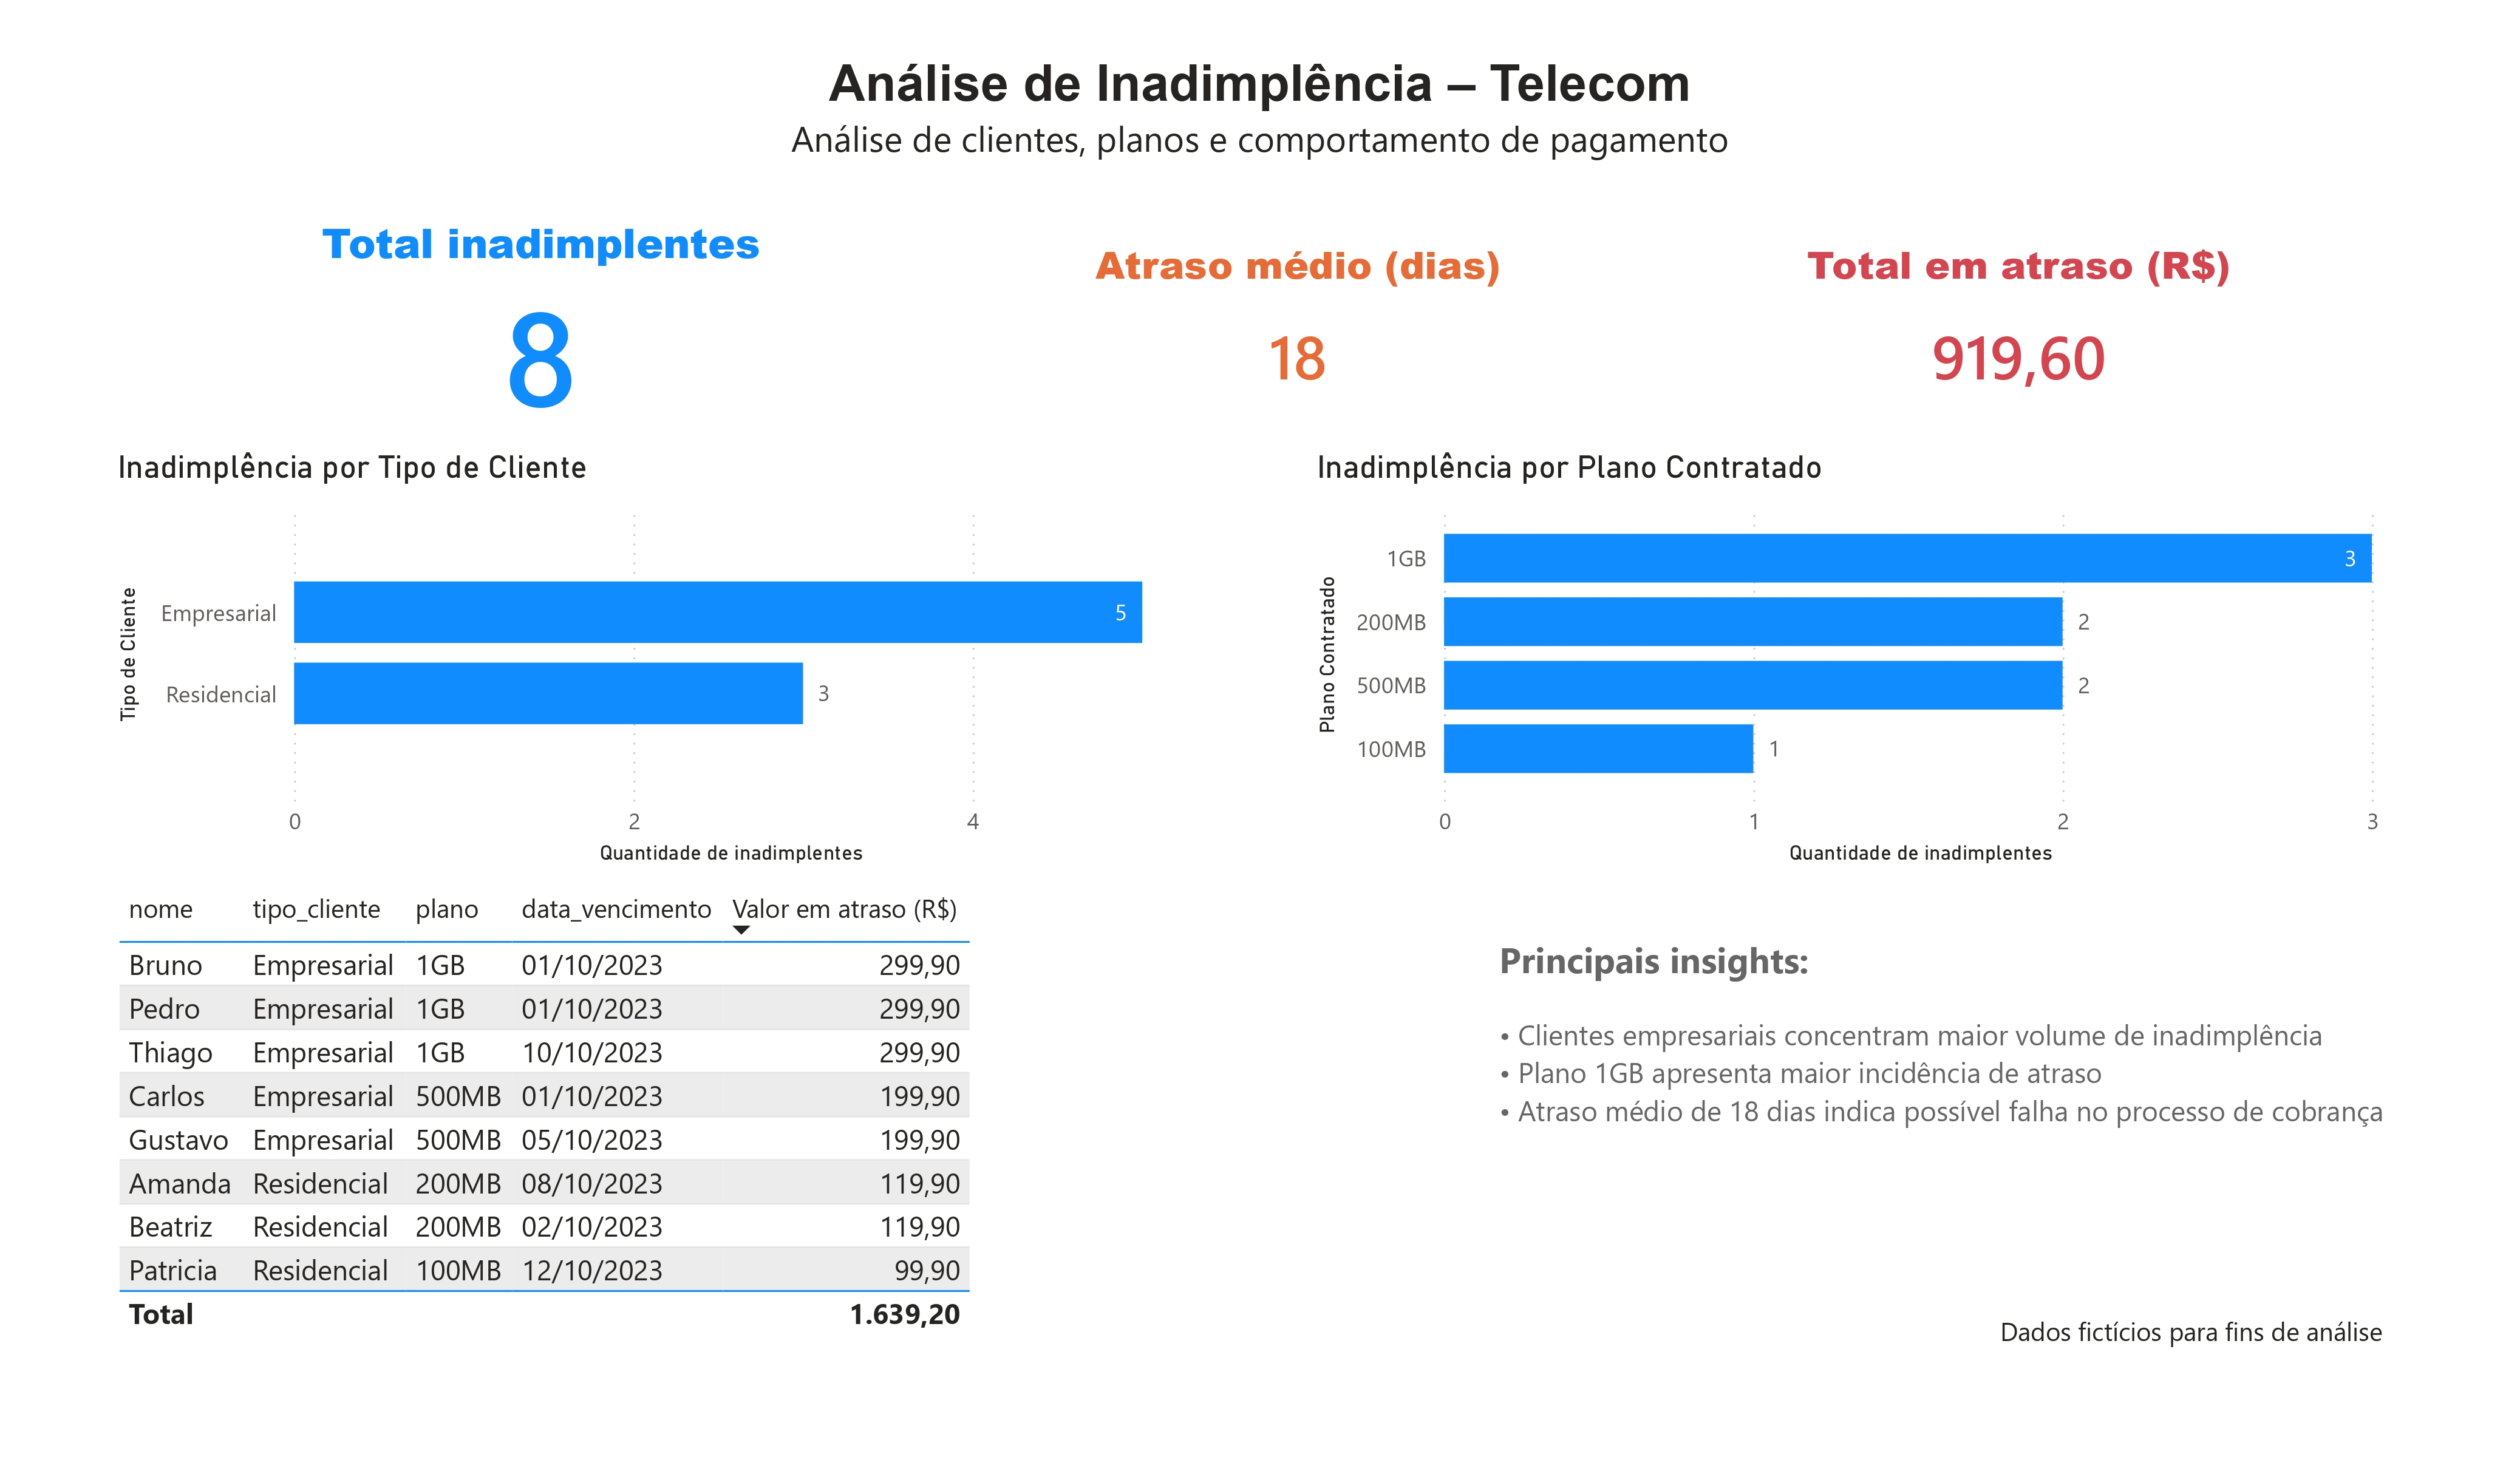

What the dashboard file says about the page in this screenshot:
{"tool":"powerbi","page":{"name":"Página 1","canvas":[1280,720],"ordinal":0},"visuals":[{"type":"textbox","box":[30.8,0,1218.3,85],"z":0,"group":"g4"},{"type":"cardVisual","title":"Total inadimplentes","fields":{"Data":["CountNonNull(pagamentos.Status_Inadimplencia)"]},"box":[113,88.7,296,120],"z":0,"group":"g1"},{"type":"group","id":"g1","title":"Grupo 1","box":[113,88.7,1056,120],"z":1000,"group":"g4"},{"type":"cardVisual","title":"Atraso médio (dias)","fields":{"Data":["pagamentos.Media_Atraso"]},"box":[529.8,100.4,260,96.7],"z":1000,"group":"g1"},{"type":"cardVisual","title":"Total em atraso (R$)","fields":{"Data":["Sum(pagamentos.valor_pago)"]},"box":[910.7,100.4,258.3,96.7],"z":2000,"group":"g1"},{"type":"group","id":"g2","title":"Grupo 2","box":[33,212.3,1216,224],"z":2000,"group":"g4"},{"type":"barChart","fields":{"Category":["clientes.tipo_cliente"],"Y":["CountNonNull(pagamentos.Status_Inadimplencia)"]},"box":[33,212.3,568,224],"z":3000,"group":"g2"},{"type":"group","id":"g3","title":"Grupo 3","box":[33,440,1216,264],"z":3000,"group":"g4"},{"type":"group","id":"g4","title":"Grupo 4","box":[30.8,0,1218.3,704],"z":3001},{"type":"barChart","fields":{"Y":["CountNonNull(pagamentos.Status_Inadimplencia)"],"Category":["contratos.plano"]},"box":[665,212.3,584,224],"z":4000,"group":"g2"},{"type":"tableEx","fields":{"Values":["clientes.nome","clientes.tipo_cliente","contratos.plano","pagamentos.data_vencimento","Sum(pagamentos.valor_pago)"]},"box":[33,440,716.7,246.7],"z":5000,"group":"g3"},{"type":"textbox","box":[761,464,488,112],"z":7000,"group":"g3"},{"type":"textbox","box":[1025,664,224,40],"z":8000,"group":"g3"}]}

Visuals, with their boxes on the page's 1280x720 design canvas (x1, y1, x2, y2). These are canvas units, not pixel positions in the 2520x1457 screenshot, which may show the page scaled, cropped or inside an application window:
textbox: BBox(31, 0, 1249, 85)
"Total inadimplentes" cardVisual: BBox(113, 89, 409, 209)
"Grupo 1" group: BBox(113, 89, 1169, 209)
"Atraso médio (dias)" cardVisual: BBox(530, 100, 790, 197)
"Total em atraso (R$)" cardVisual: BBox(911, 100, 1169, 197)
"Grupo 2" group: BBox(33, 212, 1249, 436)
barChart - clientes.tipo_cliente x CountNonNull(pagamentos.Status_Inadimplencia): BBox(33, 212, 601, 436)
"Grupo 3" group: BBox(33, 440, 1249, 704)
"Grupo 4" group: BBox(31, 0, 1249, 704)
barChart - CountNonNull(pagamentos.Status_Inadimplencia) x contratos.plano: BBox(665, 212, 1249, 436)
tableEx - clientes.nome x clientes.tipo_cliente: BBox(33, 440, 750, 687)
textbox: BBox(761, 464, 1249, 576)
textbox: BBox(1025, 664, 1249, 704)
